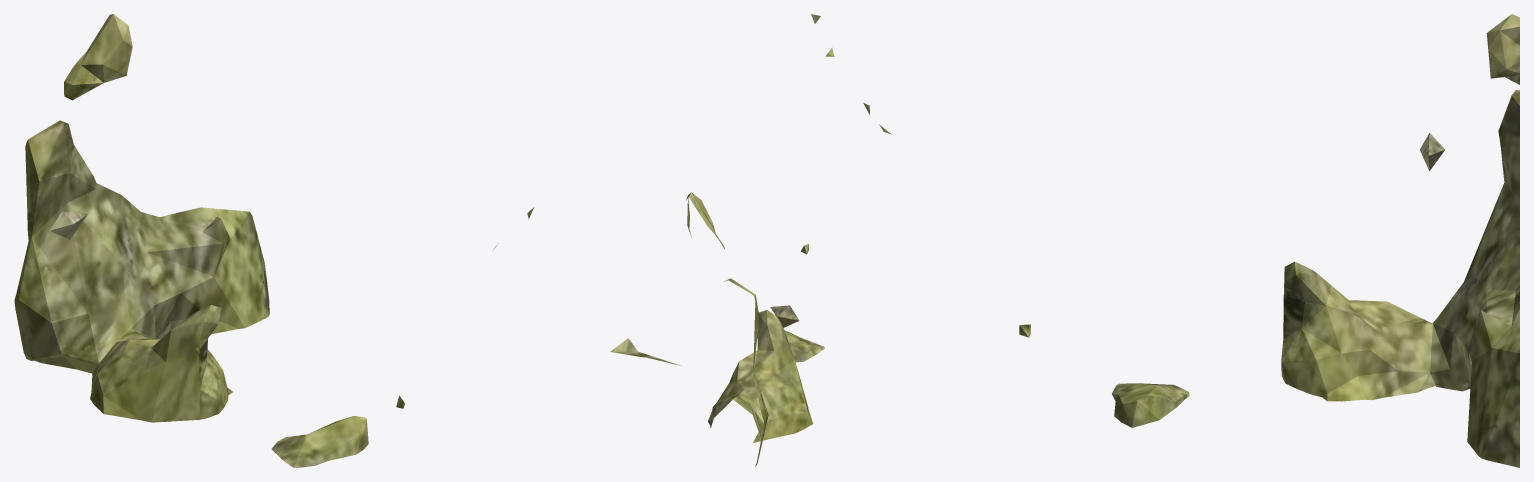
The picture shows the model from 3 angles, left to right: view 1: azimuth 30°, elevation 25°; view 2: azimuth 150°, elevation 25°; view 3: azimuth 270°, elevation 25°; orthographic projection. The views are drawn at different scales.
Bounding box in the file's own units: 1.27 × 1.53 × 2.47.
1 material, 1 textured.
